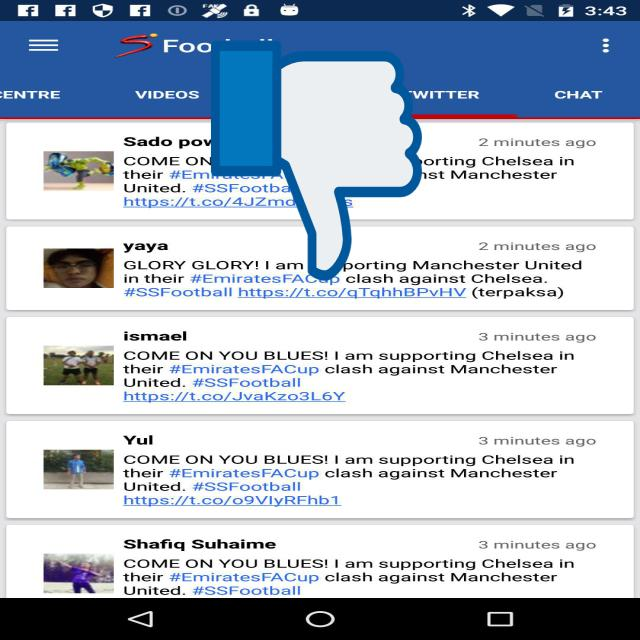obstruction: (211, 35, 422, 286)
